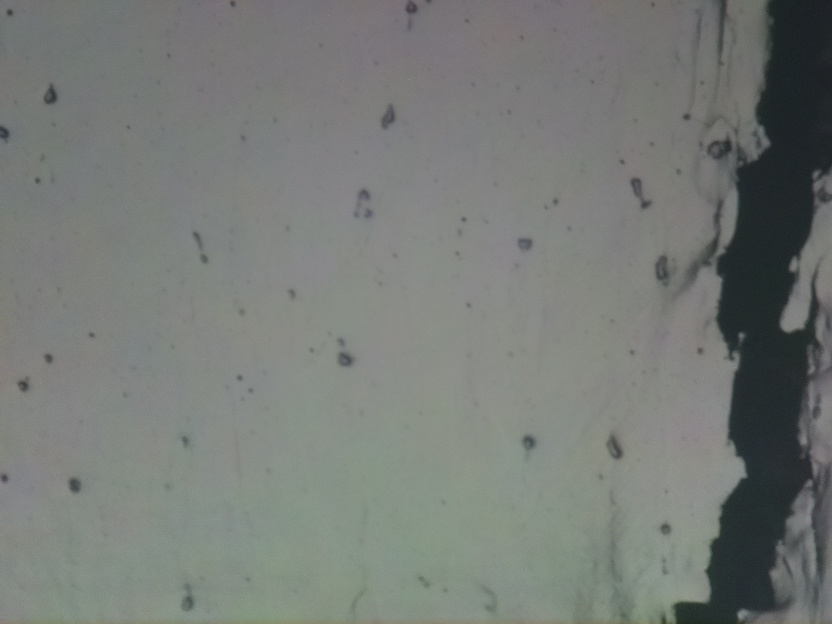crack: (677, 0, 832, 624)
